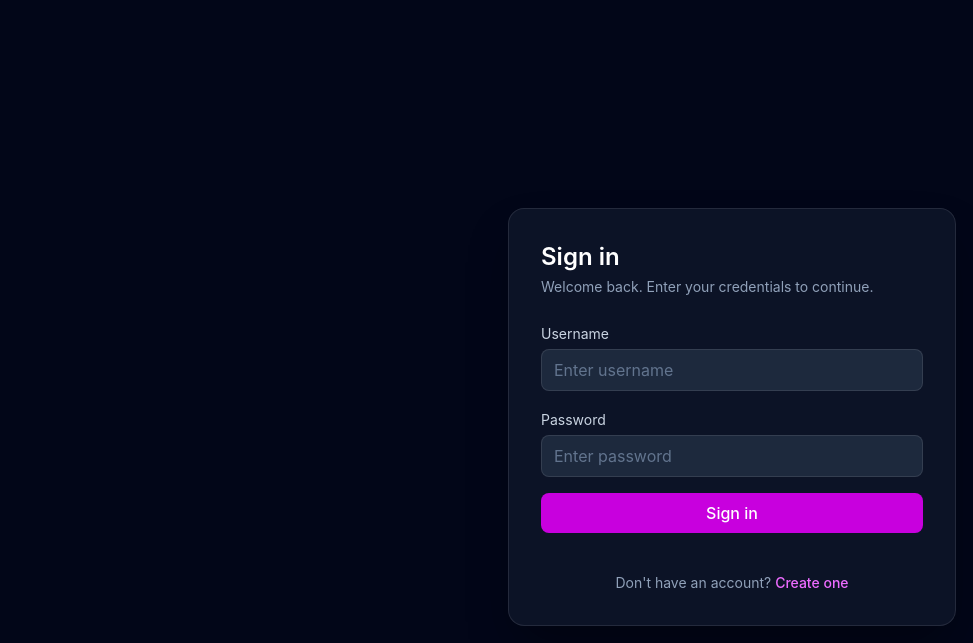
Test case: LoginPage › reports login errors and forwards state when opening registration
The width and height of the screenshot is (973, 643).
Later steps or results of the test are not shown.
Click the button "Create one". click: {"x": 812, "y": 583}
box: [775,573,848,593]
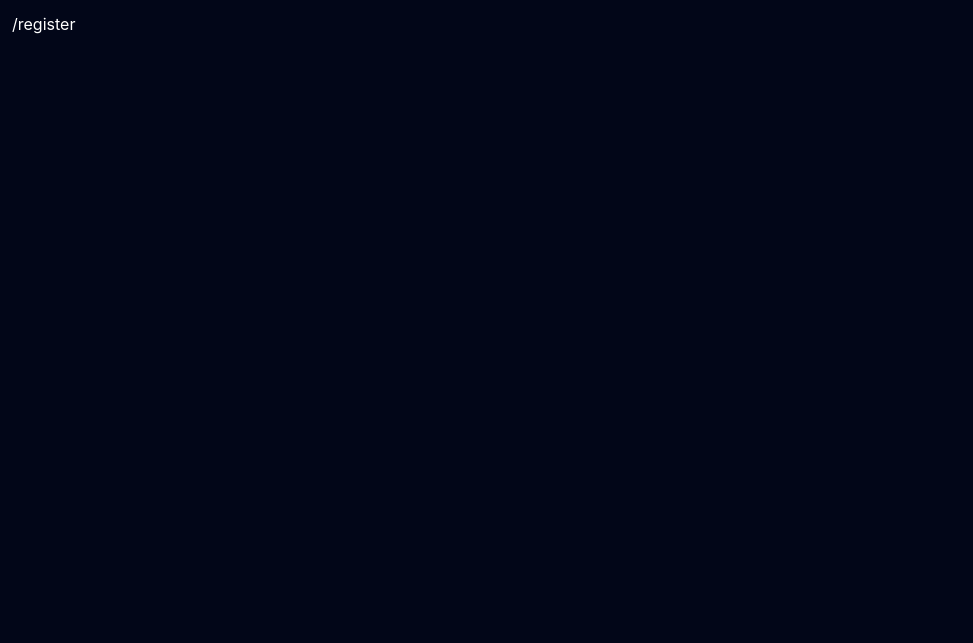
Expected: the text with test id "location" reads "/register", [12,14,75,34]
